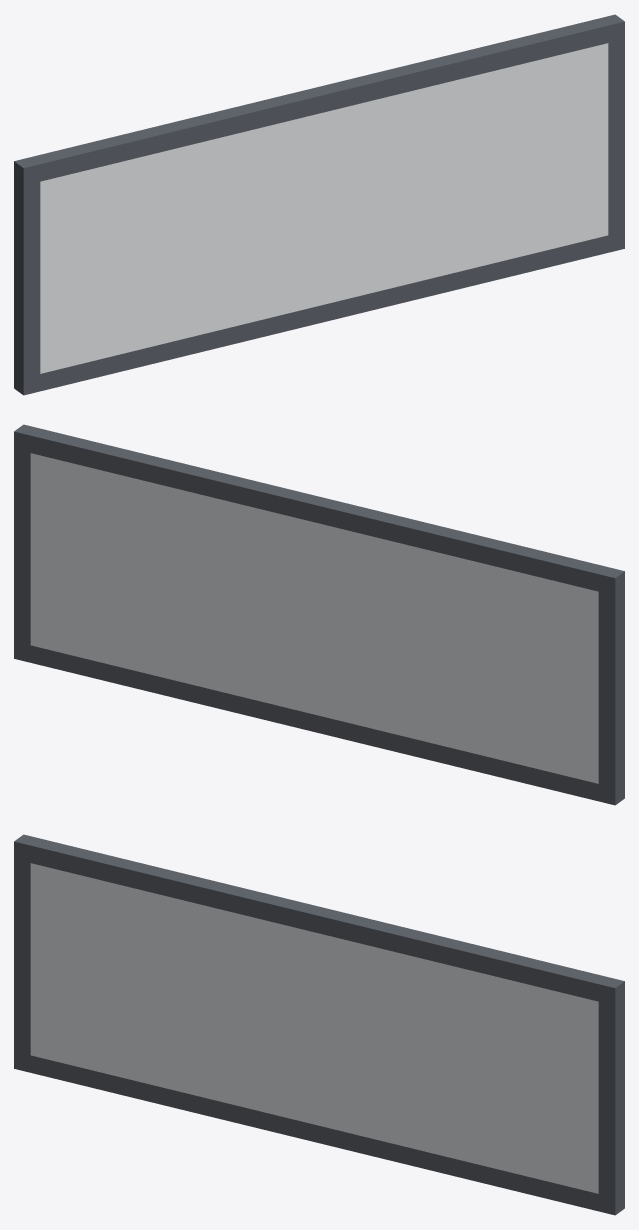
File: mirror.obj
3 renders of one model, top to bottom at view 1: azimuth 30°, elevation 25°; view 2: azimuth 150°, elevation 25°; view 3: azimuth 330°, elevation 25°, orthographic.
Bounding box in the file's own units: 3.6 × 1.3 × 0.1.
Materials: 1 (1 with a texture image).
